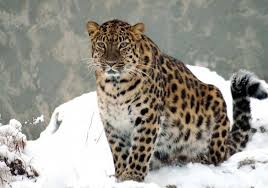amur_leopard: (77, 13, 268, 175)
